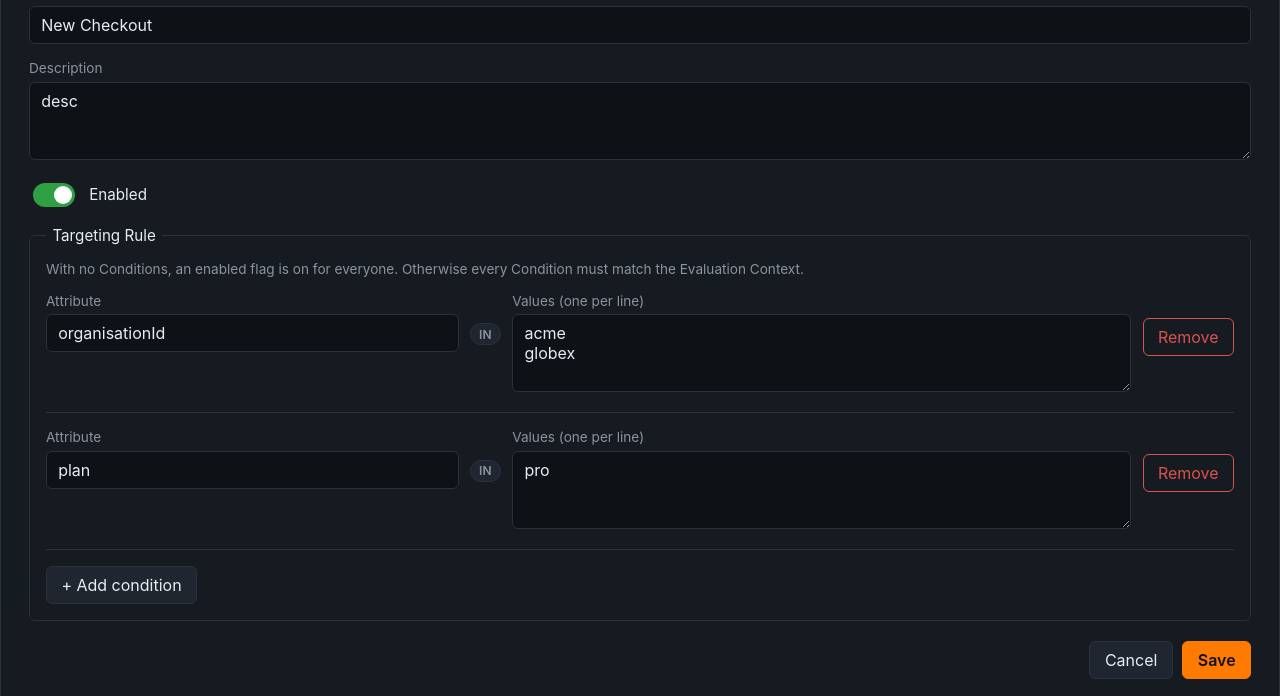
Scenario: FlagFormComponent › edit mode › shows backend field errors for Conditions on the matching row
(page scrolled)
Step 1. Click the submit button → point(1217, 660), box [1182,641,1251,679]
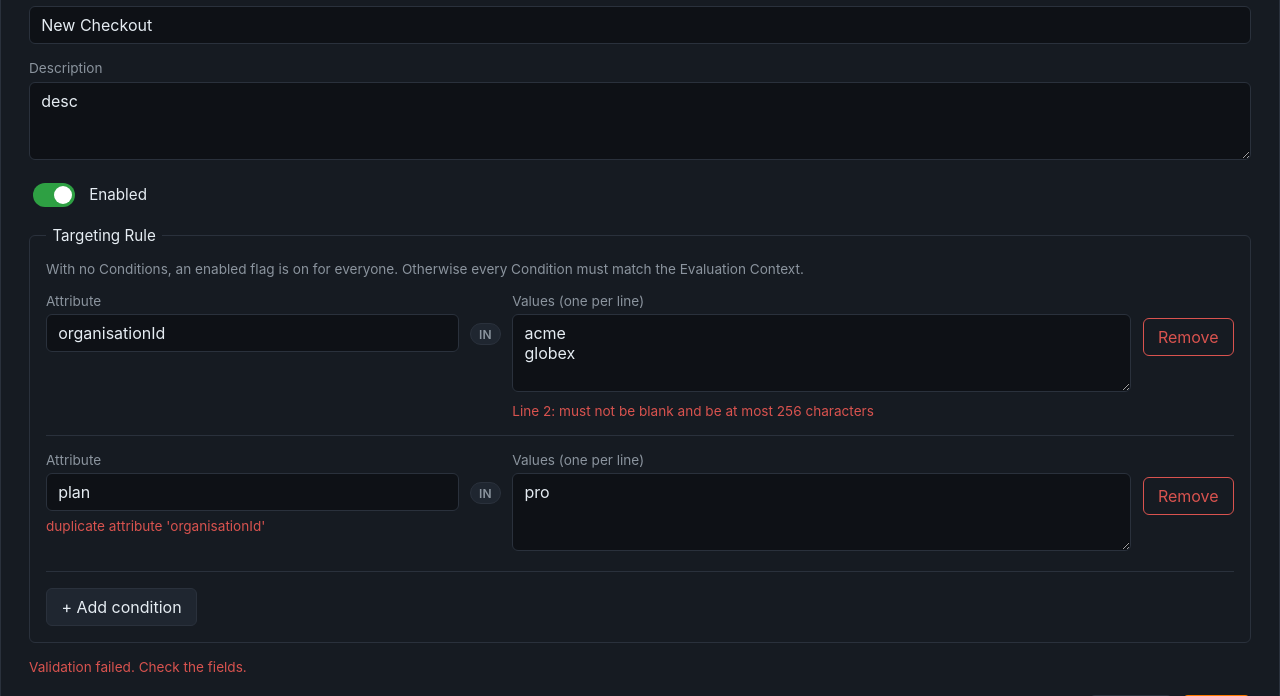
Expected: the text with class "error" reads "Line 2: must not be blank and be at most 256 characters", [512,403,874,419]
Expected: the text with class "error" reads "duplicate attribute 'organisationId'", [46,518,265,534]
